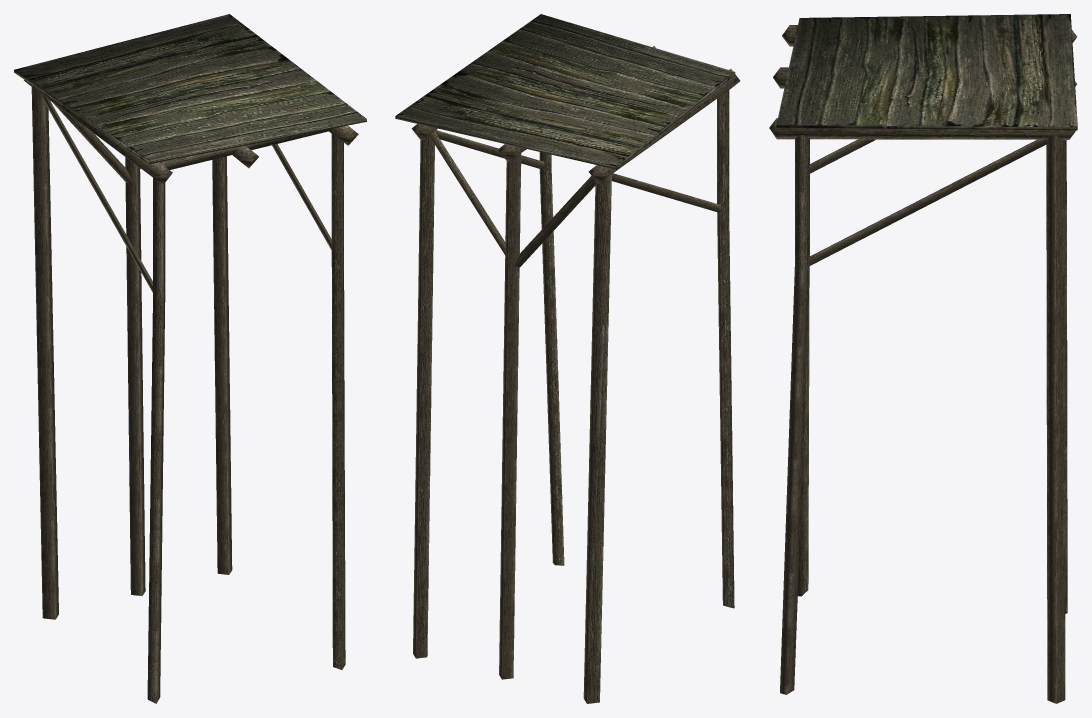
Rendered from MIN_LOB_STANDINGWORKPLANK_5X7M.glb.
3 renders of one model, left to right at view 1: azimuth 30°, elevation 25°; view 2: azimuth 150°, elevation 25°; view 3: azimuth 270°, elevation 25°, orthographic. The views are drawn at different scales.
Visible parts, largest first — view 1: Mesh; view 2: Mesh; view 3: Mesh.
Boxes of the visible parts, x1,y1,x2,y2 form: Mesh: (14,14,366,703); Mesh: (395,14,740,703); Mesh: (769,14,1077,703).
Bounding box in the file's own units: 6.1 × 14.62 × 7.01.
Materials: 2 (2 with a texture image).
